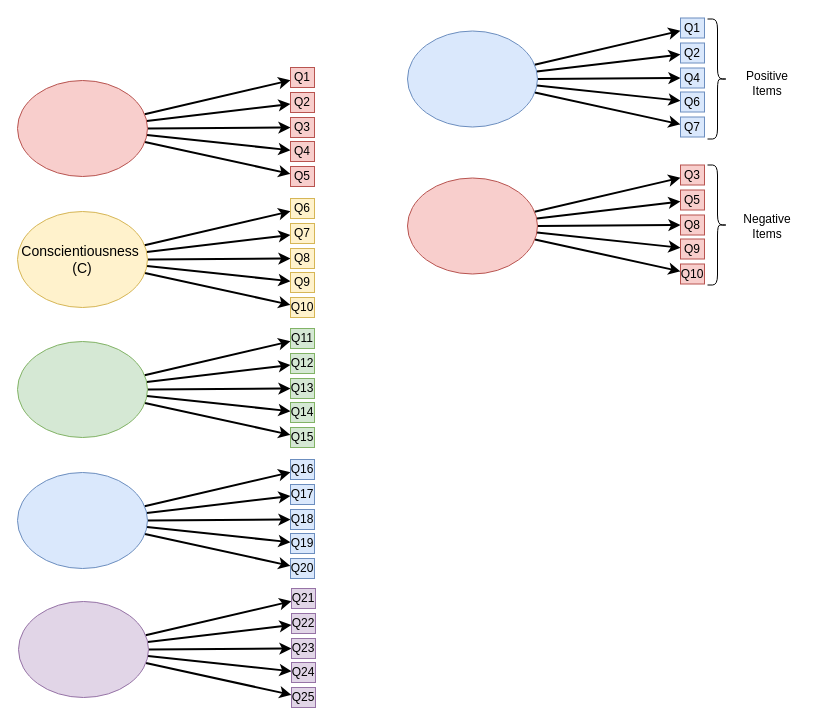
The diagram is 815 pixels wide and 725 high, and some of its shapes have lost their labels. The shapes that lost their labels are listed below. From the top down, each one's centre as x and y in pixels, then its label:
[472,78]: Latent 1 (l1)
[82,128]: Agreeableness (A)
[472,225]: Latent 2 (l2)
[82,389]: Extraversion (E)
[82,520]: Neuroticism (N)
[83,649]: Openness (O)
